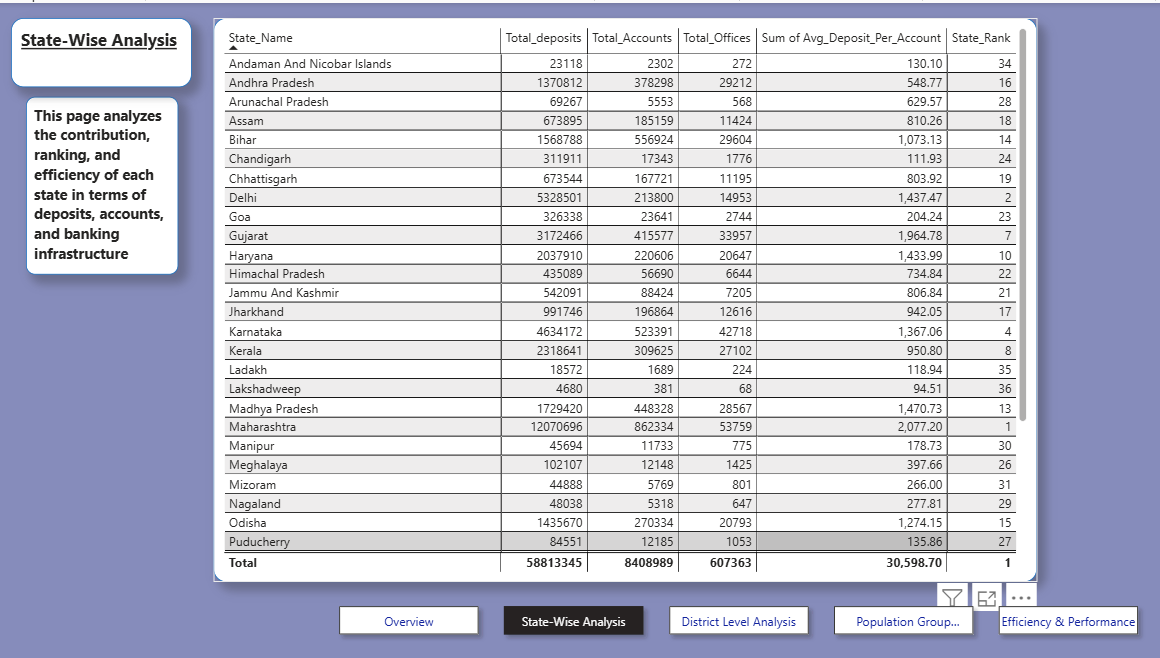

This screenshot's page, from the dashboard's own definition file:
{"tool":"powerbi","page":{"name":"State-Wise Analysis","canvas":[1280,720],"ordinal":1},"visuals":[{"type":"textbox","box":[32.9,102.9,167.4,194.9],"z":0},{"type":"textbox","box":[17.1,17.1,198.1,75.8],"z":1000},{"type":"tableEx","fields":{"Values":["Cleaned Data.State_Name","Cleaned Data.Total_deposits","Cleaned Data.Total_Accounts","Cleaned Data.Total_Offices","Sum(Cleaned Data.Avg_Deposit_Per_Account)","Cleaned Data.State_Rank"]},"box":[238.8,16.5,904.3,618.9],"z":2000},{"type":"pageNavigator","box":[367.8,653.2,897.4,49.4],"z":2001}]}

Visuals, with their boxes on the page's 1280x720 design canvas (x1, y1, x2, y2). These are canvas units, not pixel positions in the 1160x658 screenshot, which may show the page scaled, cropped or inside an application window:
textbox: 33 103 200 298
textbox: 17 17 215 93
tableEx - Cleaned Data.State_Name x Cleaned Data.Total_deposits: 239 16 1143 635
pageNavigator: 368 653 1265 703
